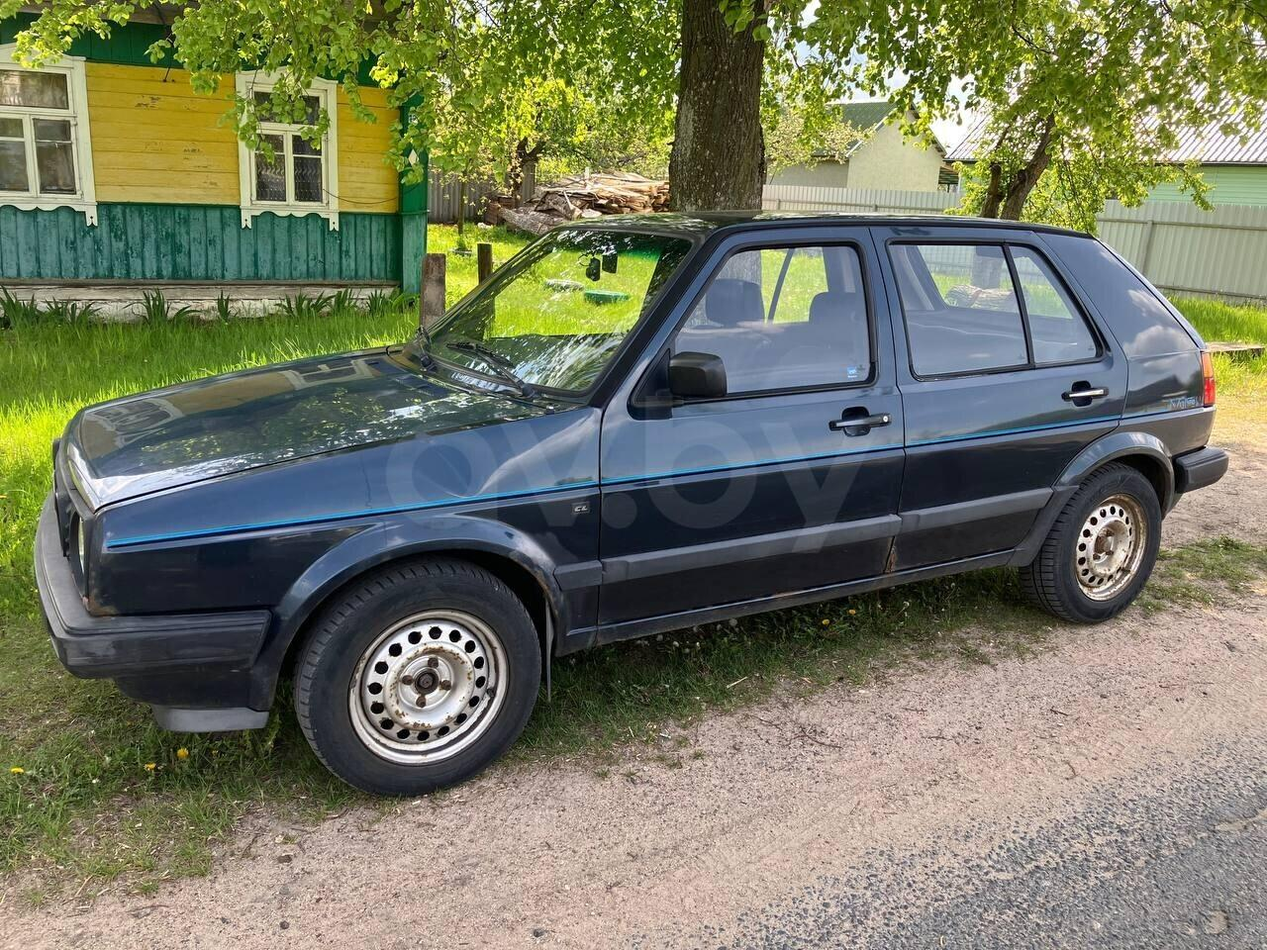Golf_1983-1992: (31, 207, 1226, 793)
